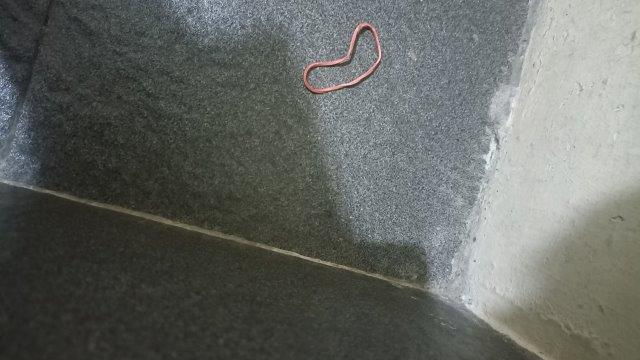karet: (303, 22, 382, 93)
